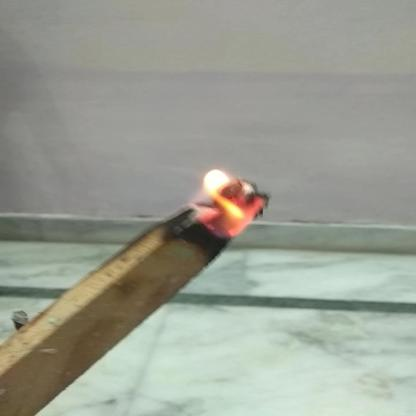fire: (185, 160, 268, 244)
